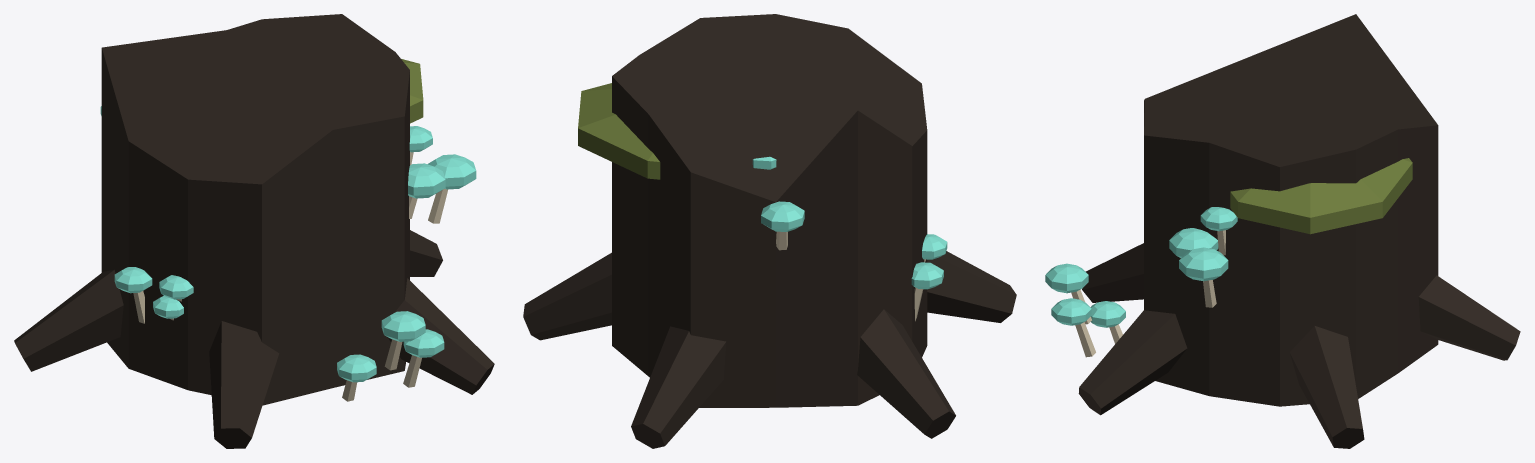
Rendered from glow_stump.glb.
The picture shows the model from 3 angles, left to right: view 1: azimuth 30°, elevation 25°; view 2: azimuth 150°, elevation 25°; view 3: azimuth 270°, elevation 25°; orthographic projection. The views are drawn at different scales.
Parts seen in each view (by area): view 1: GlowStump; view 2: GlowStump; view 3: GlowStump.
Boxes of the visible parts, bbox=[...] form: GlowStump: bbox=[14, 14, 494, 448]; GlowStump: bbox=[523, 14, 1016, 448]; GlowStump: bbox=[1045, 14, 1520, 448].
Bounding box in the file's own units: 0.7524 × 0.5226 × 0.7773.
